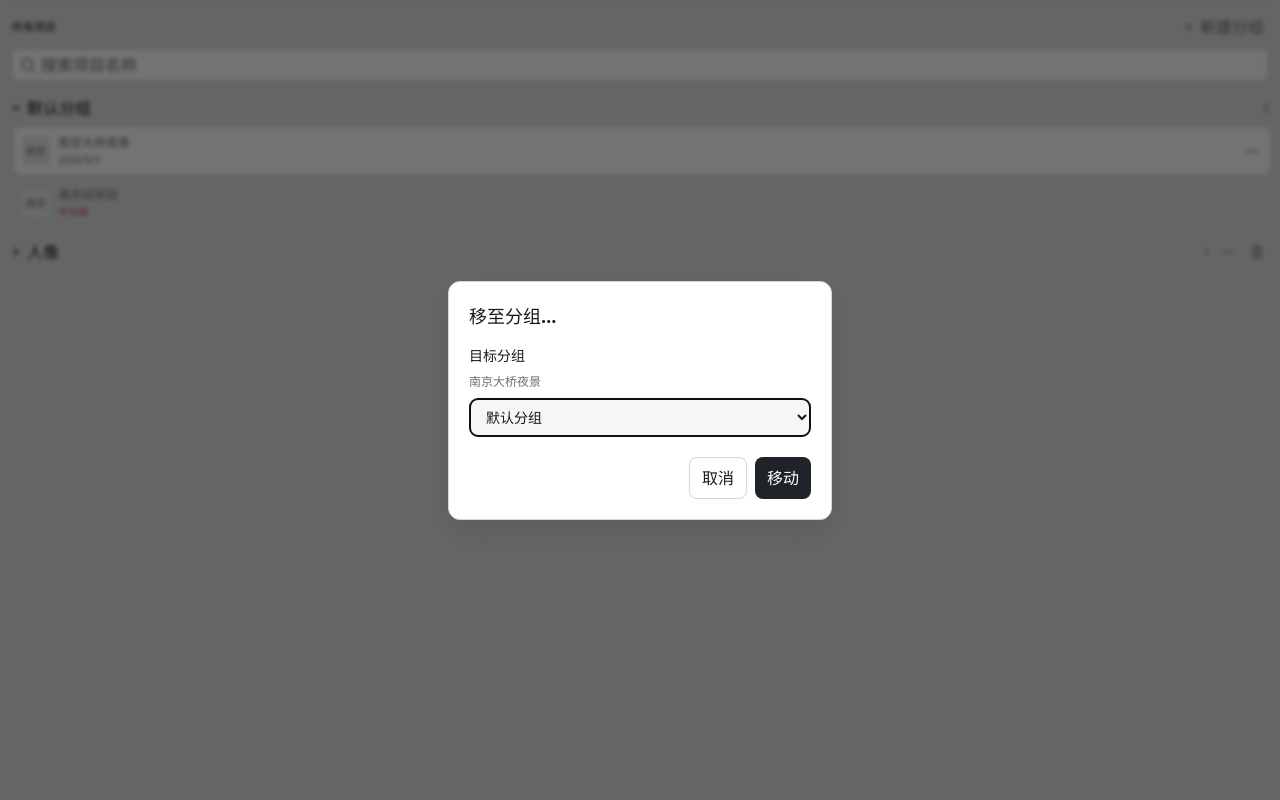
Test: grouped project sidebar › supports moving without dragging and expands the destination
This screenshot has width=1280, height=800.
Select "人像" in the dropdown labelled "目标分组" at (640, 417), box [469,398,811,436]
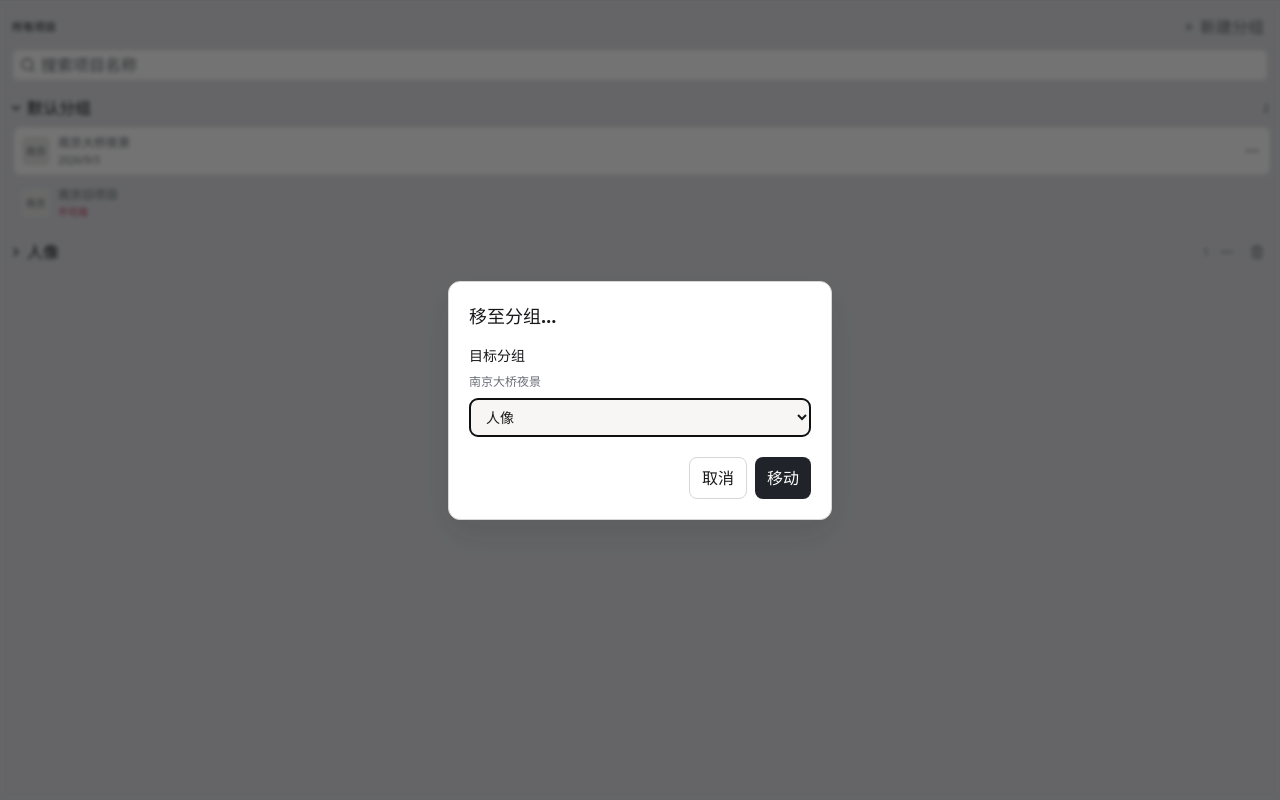
Click the button "移动" at (783, 478), box [755,456,811,498]
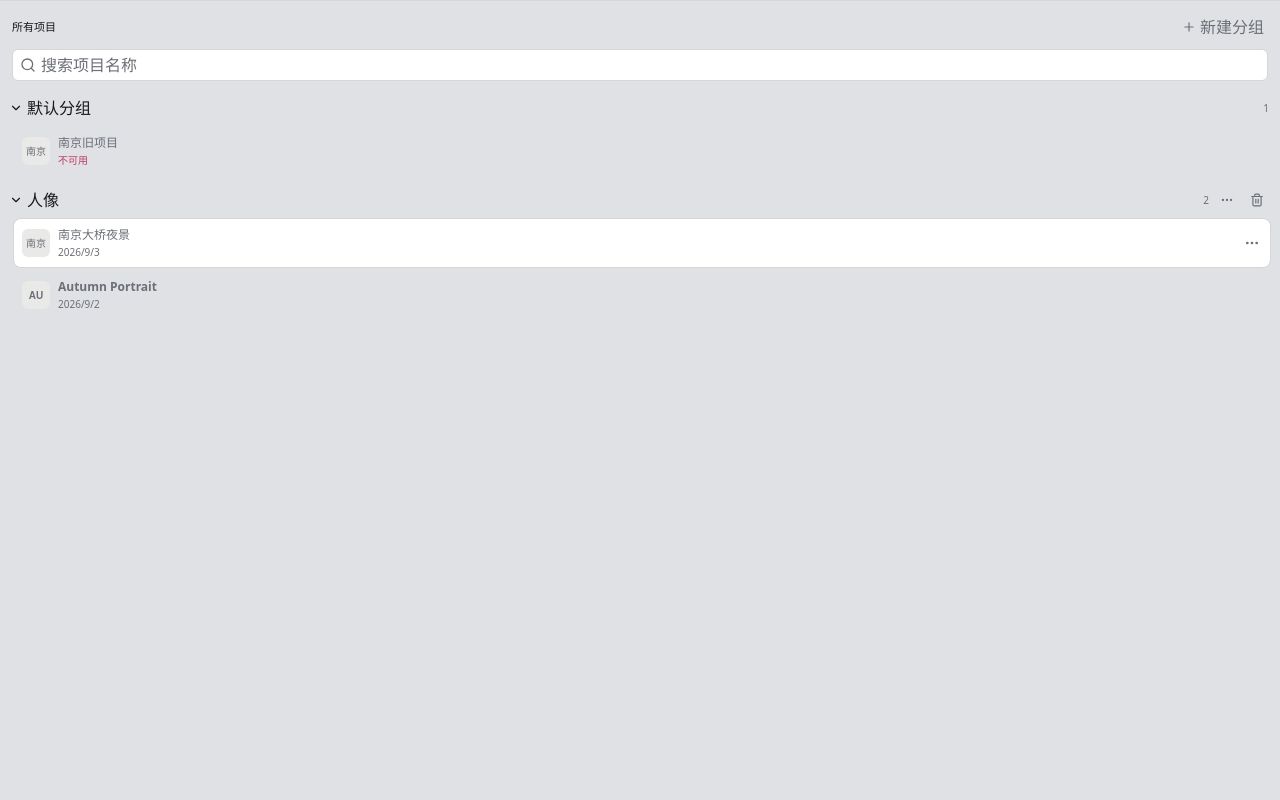
Expected: the button "人像" is expanded, [9,182,1199,218]
